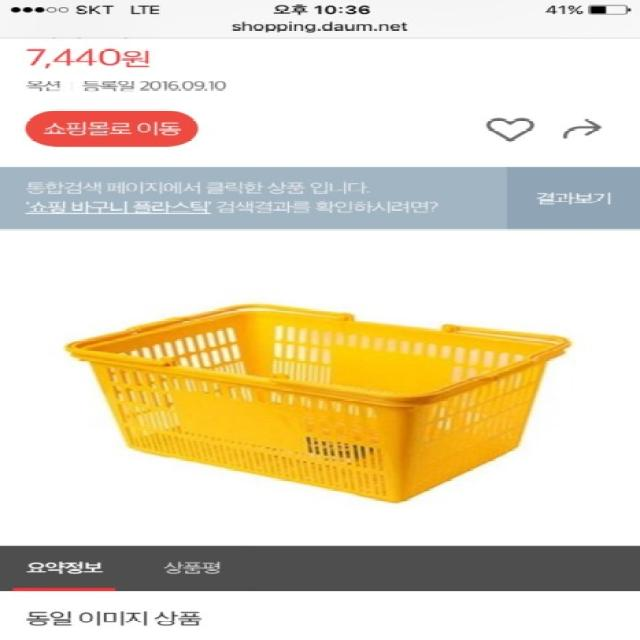basket: (53, 283, 572, 520)
